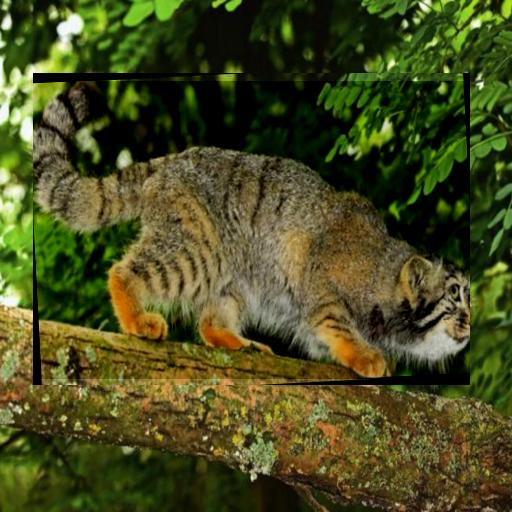manul: (33, 82, 470, 379)
